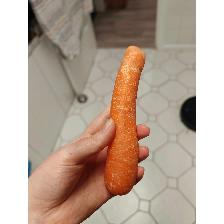Karotte: (103, 45, 147, 196)
